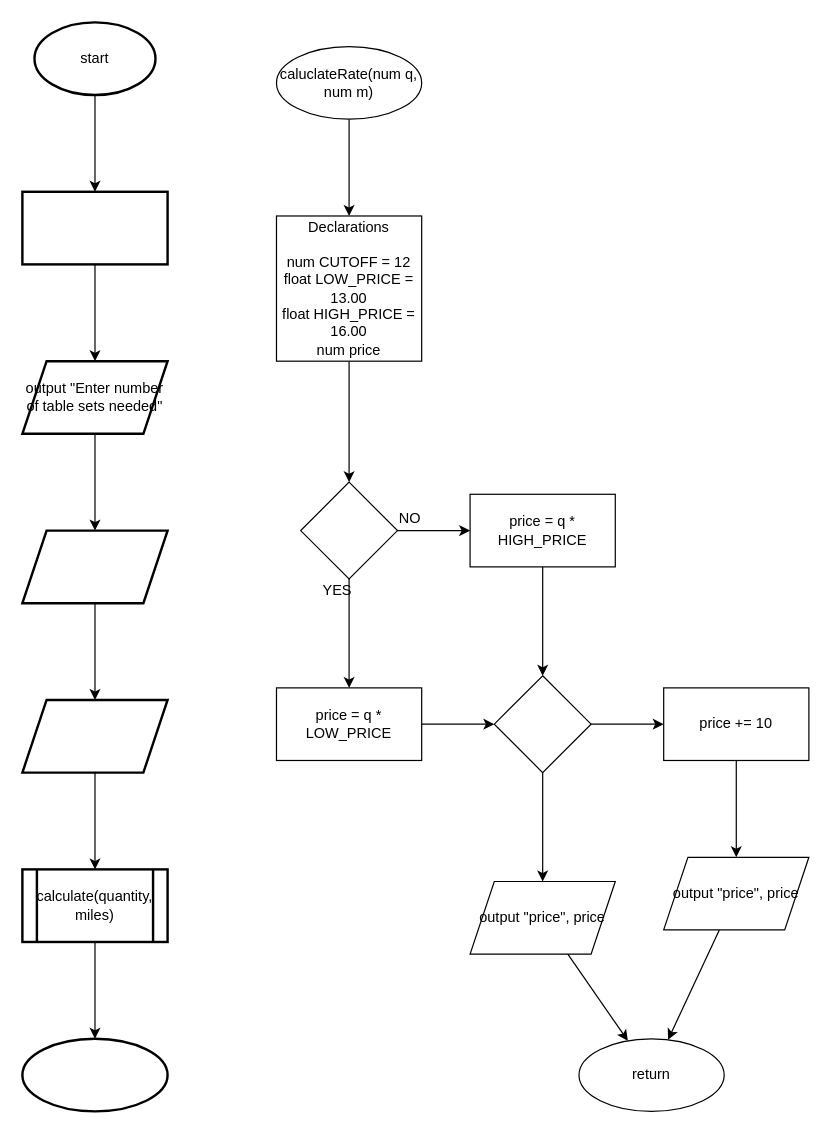
Some shapes in this 830 by 1133 pixel diagram are drawn without their labels. Here are the shapes that lost their labels. From the top down, the centre of each, then its label:
[94,227]: Declarations num quantity num miles
[348,530]: q > CUTOFF
[94,566]: input quantity
[94,735]: output "Enter distance in miles
[542,724]: m < 4
[94,1074]: stop
